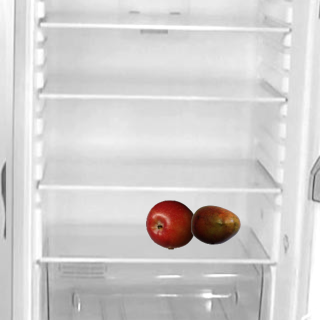Apple Braeburn: (145, 199, 195, 249)
Mango Red: (190, 199, 240, 249)
